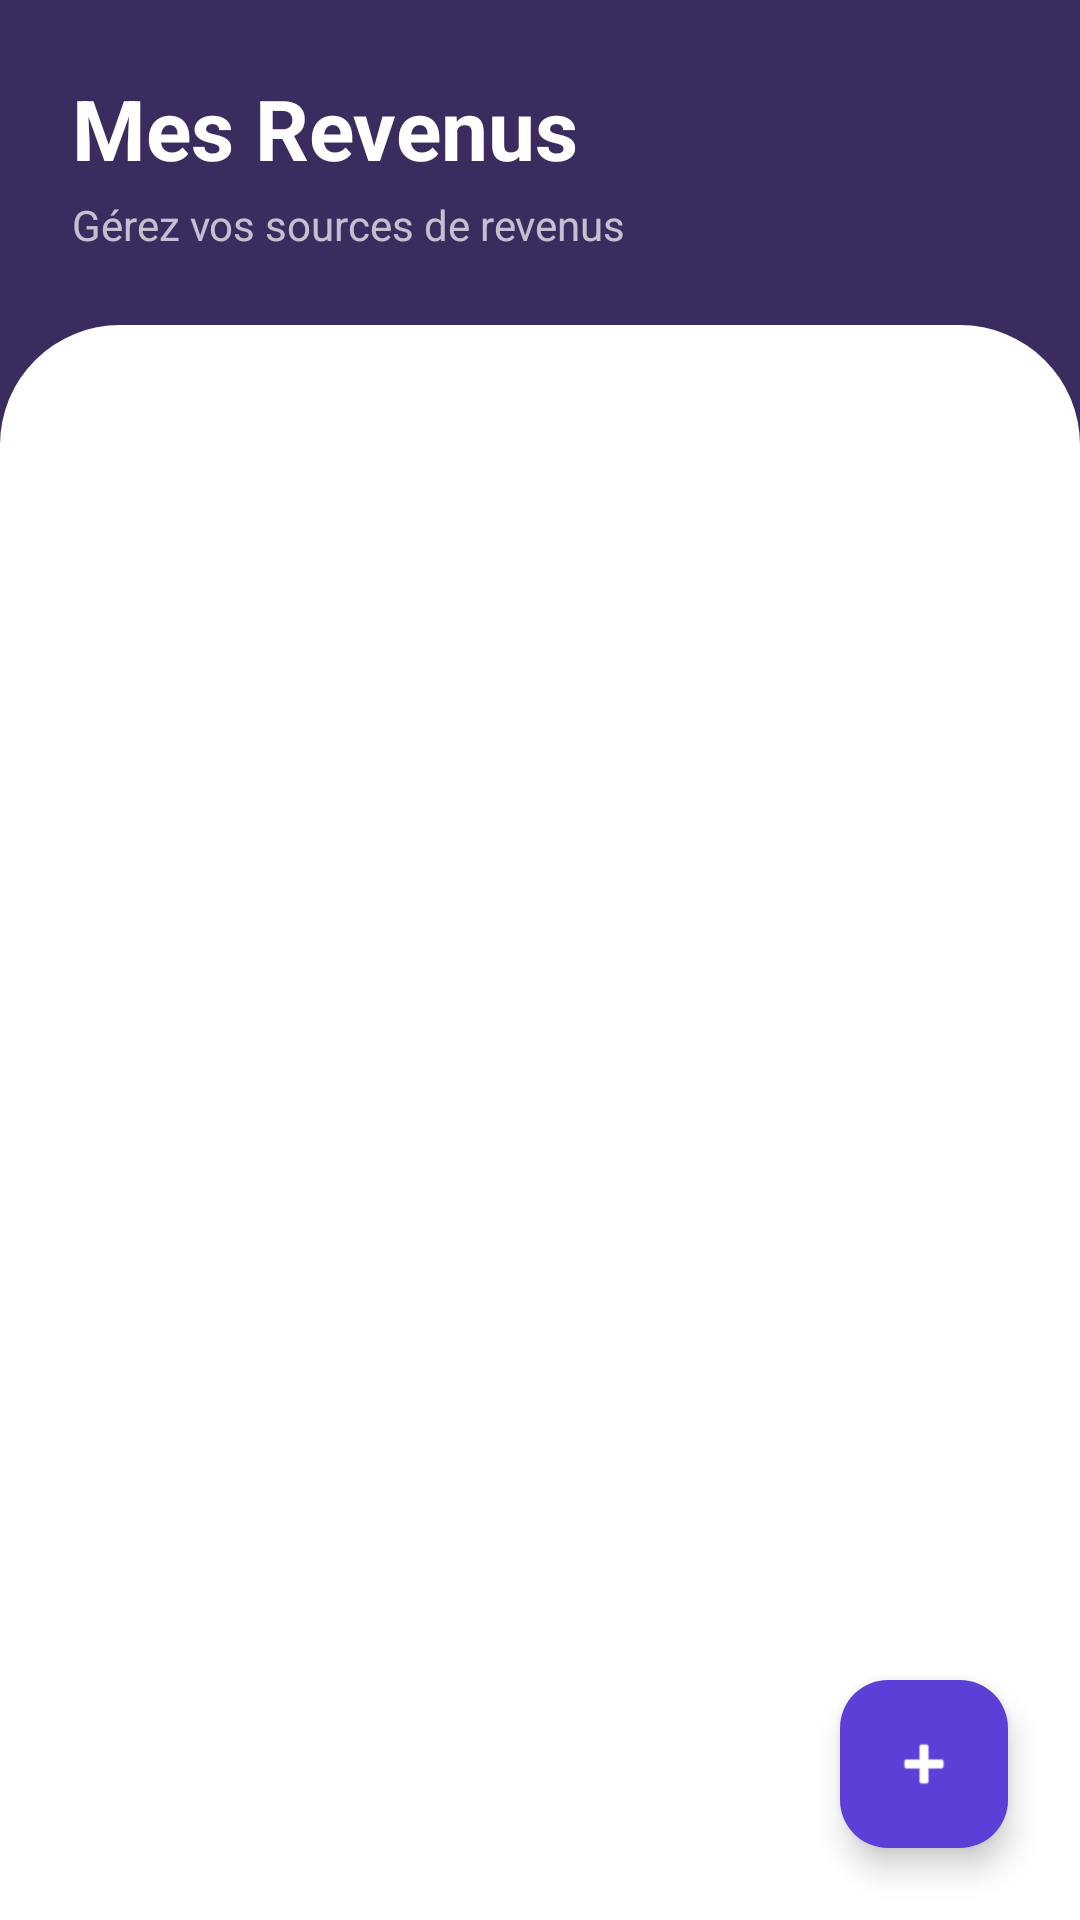

Icons on this 1080px x 1920px Android screen, each with its box as (x1, y1, x2, y2):
Ajouter revenu: (840, 1680, 1008, 1848)
